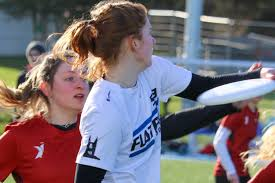disc: (200, 78, 275, 107)
